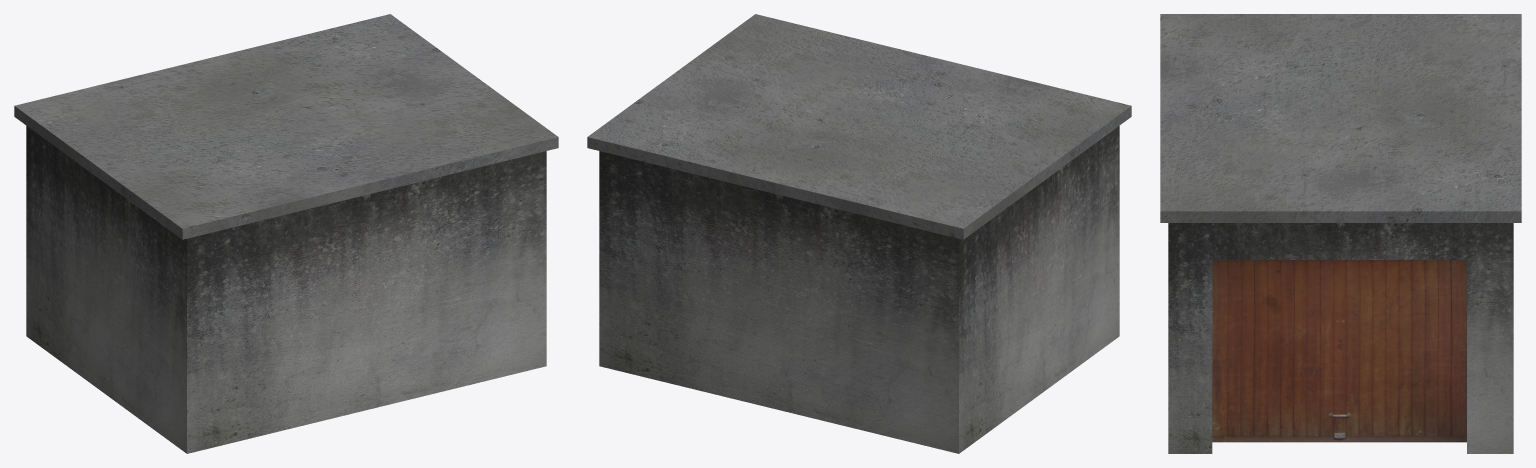
Rendered from garage.fbx.
3 renders of one model, left to right at view 1: azimuth 30°, elevation 25°; view 2: azimuth 150°, elevation 25°; view 3: azimuth 270°, elevation 25°, orthographic. The views are drawn at different scales.
Parts seen in each view (by area): view 1: house3; view 2: house3; view 3: house3.
Boxes of the visible parts, <box> form: house3: <box>14,14,558,453</box>; house3: <box>587,14,1131,453</box>; house3: <box>1160,14,1521,453</box>.
Bounding box in the file's own units: 2.92 × 1.71 × 2.26.
